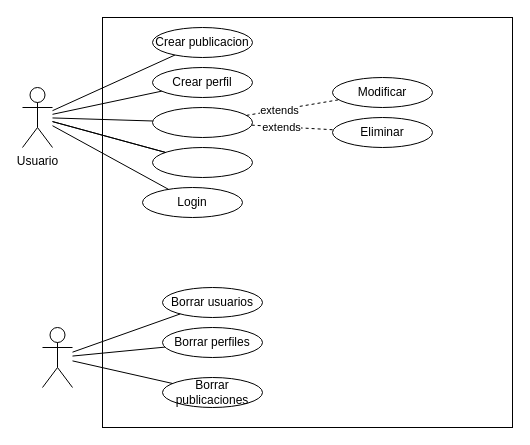
Image size: 530x445. Some labels were removed from this diagram. The shapes that lost their labels are listed below. From the top down, each one's centre as x and y in pixels, then its label:
At pixel 202 122: "Editar publicacion".
At pixel 202 162: "Comentar publicacion".
At pixel 57 357: "Administrador".
